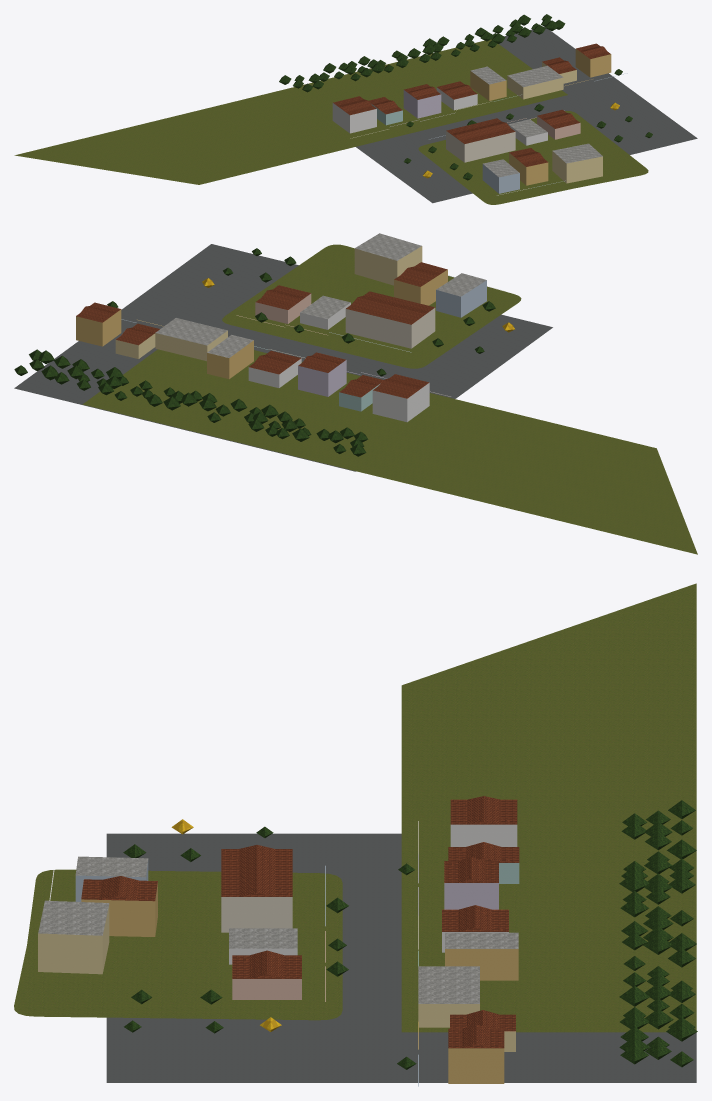
File: cidade_S01_07_lod.gltf
3 views of the same model, one above another, from view 1: azimuth 30°, elevation 25°; view 2: azimuth 150°, elevation 25°; view 3: azimuth 270°, elevation 25° (orthographic). The views are drawn at different scales.
Visible parts, largest first — view 1: S01_07_Chao_LOD2, S01_07_Edificios_LOD1, S01_07_Silhueta_LOD2, S01_07_Vegetacao_LOD2; view 2: S01_07_Chao_LOD2, S01_07_Edificios_LOD1, S01_07_Silhueta_LOD2, S01_07_Vegetacao_LOD2; view 3: S01_07_Chao_LOD2, S01_07_Edificios_LOD1, S01_07_Vegetacao_LOD2, S01_07_Silhueta_LOD2.
Boxes of the visible parts, x1,y1,x2,y2 form: S01_07_Chao_LOD2: (14, 26, 697, 204); S01_07_Edificios_LOD1: (332, 46, 627, 195); S01_07_Silhueta_LOD2: (332, 43, 611, 184); S01_07_Vegetacao_LOD2: (279, 14, 652, 180); S01_07_Chao_LOD2: (14, 244, 697, 554); S01_07_Edificios_LOD1: (76, 233, 506, 421); S01_07_Silhueta_LOD2: (76, 262, 447, 421); S01_07_Vegetacao_LOD2: (14, 248, 514, 456); S01_07_Chao_LOD2: (14, 583, 696, 1082); S01_07_Edificios_LOD1: (38, 796, 519, 1086); S01_07_Vegetacao_LOD2: (123, 800, 697, 1069); S01_07_Silhueta_LOD2: (81, 799, 519, 1082).
Bounding box in the file's own units: 204 × 8.77 × 116.
14 materials, 14 textured.
